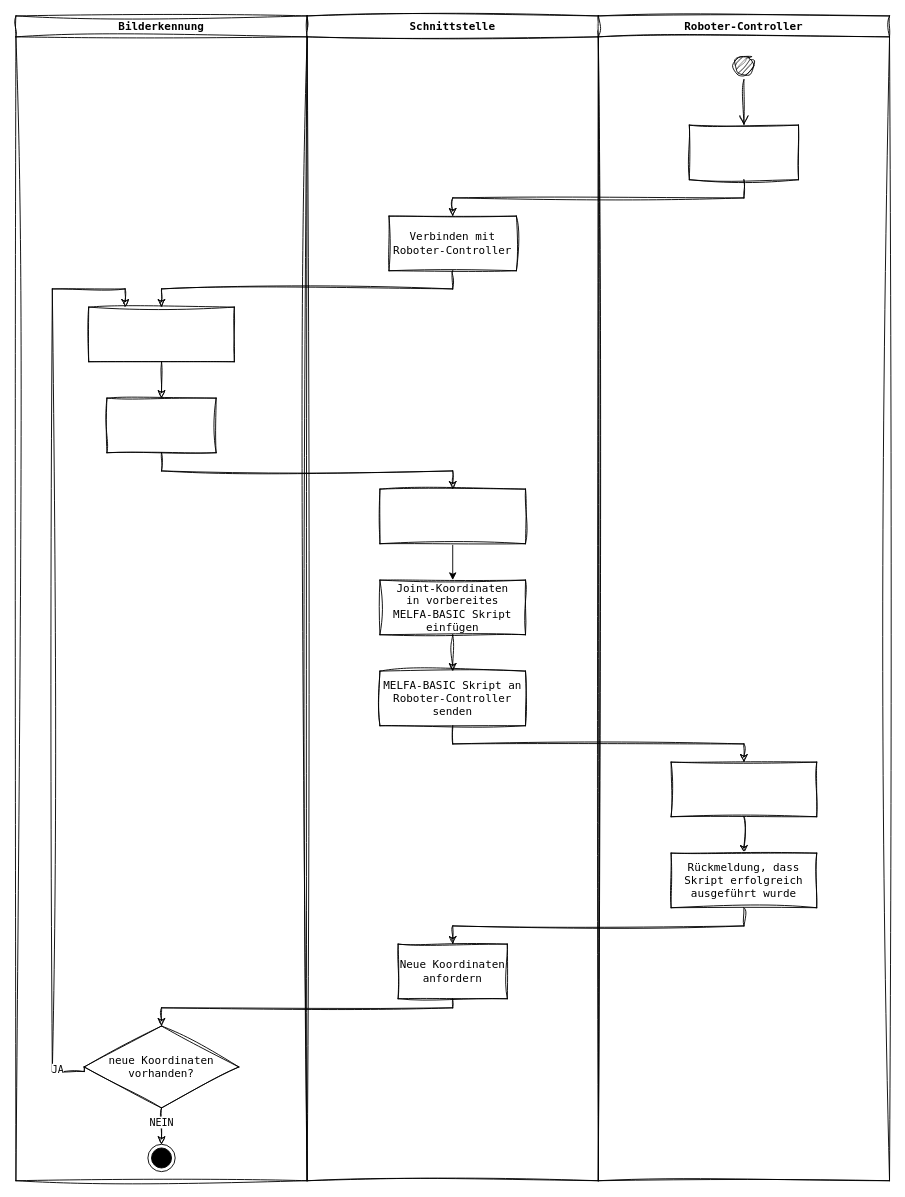
Image size: 905x1197. Some labels were removed from this diagram. The shapes that lost their labels are listed below. From the top down, each one's centre as x and y in pixels, then its label:
[743,152]: Schnittstelle öffnen mit "CONNECT.prg"
[161,334]: Bilderkennung und Koordinatenbestimmung
[161,425]: Koordinaten im Vektor-Format
[452,516]: Umrechnung der Koordinaten in Joint-Koordinaten
[743,789]: MELFA-BASIC Skript ausführen
